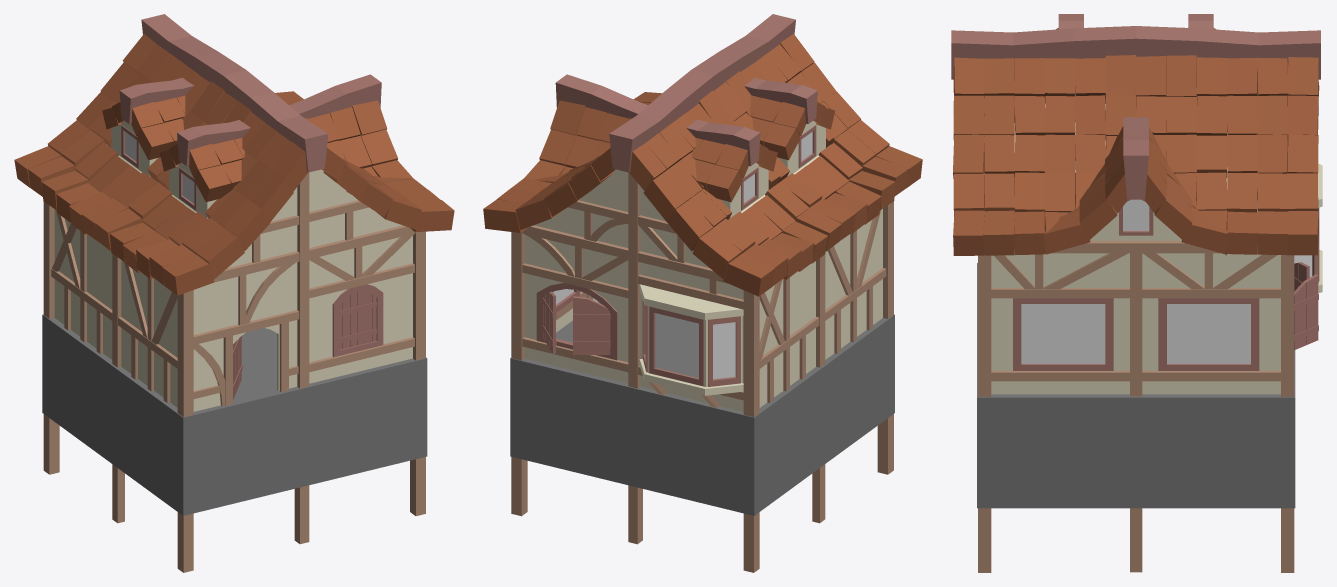
Rendered from fang05_5.fbx.
The picture shows the model from 3 angles, left to right: view 1: azimuth 30°, elevation 25°; view 2: azimuth 150°, elevation 25°; view 3: azimuth 270°, elevation 25°; orthographic projection. The views are drawn at different scales.
Visible parts, largest first — view 1: diban, wuding, zhuzi, fang05, wuyan, wuding.002, wuding.001, chuanghu, 立方体.057; view 2: diban, wuding, zhuzi, fang05, wuyan, wuding.002, chuanghu, boli, wuding.001, 立方体.059, 立方体.058; view 3: wuding, diban, zhuzi, fang05, wuyan, boli, wuding.001, chuanghu, 立方体.058.
Boxes of the visible parts, left/top/right/bottom form: diban: left=42, top=314, right=427, bottom=515; wuding: left=14, top=34, right=454, bottom=295; zhuzi: left=43, top=172, right=425, bottom=572; fang05: left=54, top=120, right=412, bottom=411; wuyan: left=119, top=14, right=381, bottom=172; wuding.002: left=102, top=95, right=244, bottom=202; wuding.001: left=306, top=100, right=413, bottom=178; chuanghu: left=121, top=125, right=383, bottom=357; 立方体.057: left=339, top=290, right=376, bottom=349; diban: left=510, top=301, right=894, bottom=515; wuding: left=483, top=33, right=922, bottom=296; zhuzi: left=511, top=172, right=893, bottom=572; fang05: left=524, top=120, right=882, bottom=411; wuyan: left=555, top=14, right=817, bottom=172; wuding.002: left=691, top=95, right=834, bottom=202; chuanghu: left=536, top=125, right=816, bottom=386; boli: left=553, top=131, right=812, bottom=379; wuding.001: left=524, top=100, right=631, bottom=179; 立方体.059: left=573, top=296, right=610, bottom=354; 立方体.058: left=543, top=291, right=556, bottom=353; wuding: left=953, top=55, right=1319, bottom=255; diban: left=977, top=263, right=1295, bottom=508; zhuzi: left=978, top=241, right=1294, bottom=572; fang05: left=991, top=94, right=1322, bottom=394; wuyan: left=951, top=14, right=1320, bottom=199; boli: left=1021, top=199, right=1312, bottom=363; wuding.001: left=1043, top=126, right=1228, bottom=254; chuanghu: left=1013, top=199, right=1319, bottom=370; 立方体.058: left=1294, top=274, right=1318, bottom=350.
Size of the model in its own units: 606 by 863 by 613.
